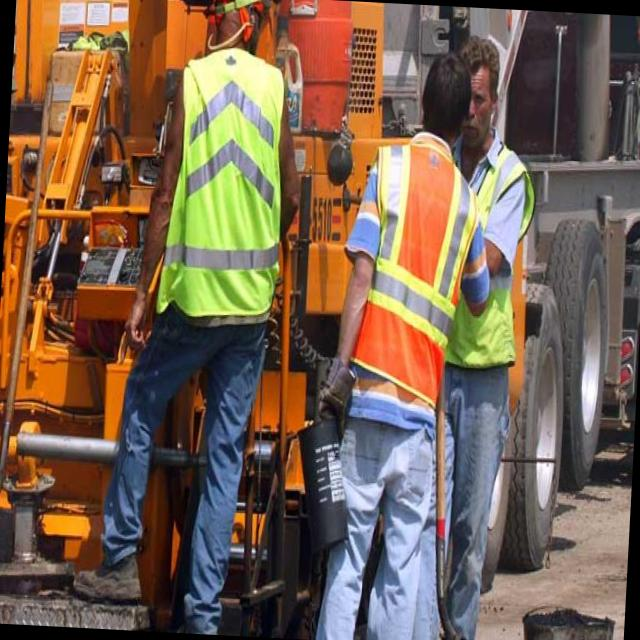Gloves: (316, 362, 358, 427)
Vest: (159, 49, 290, 322), (352, 136, 468, 411), (452, 152, 532, 376)
